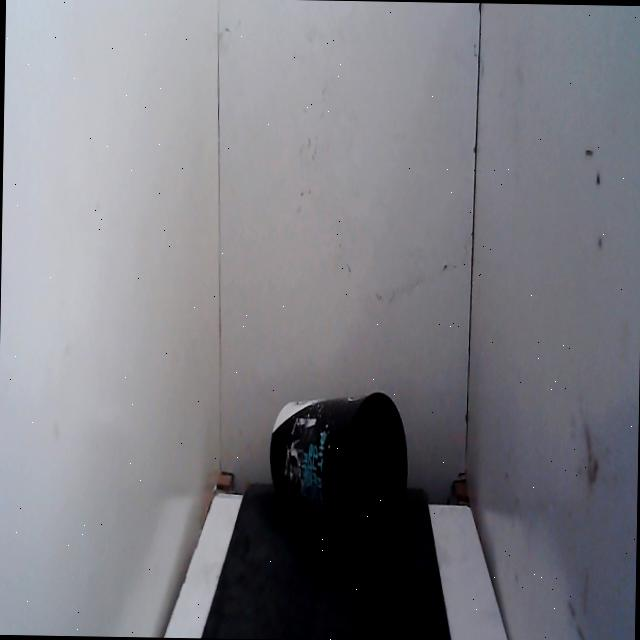plastico: (260, 374, 419, 561)
